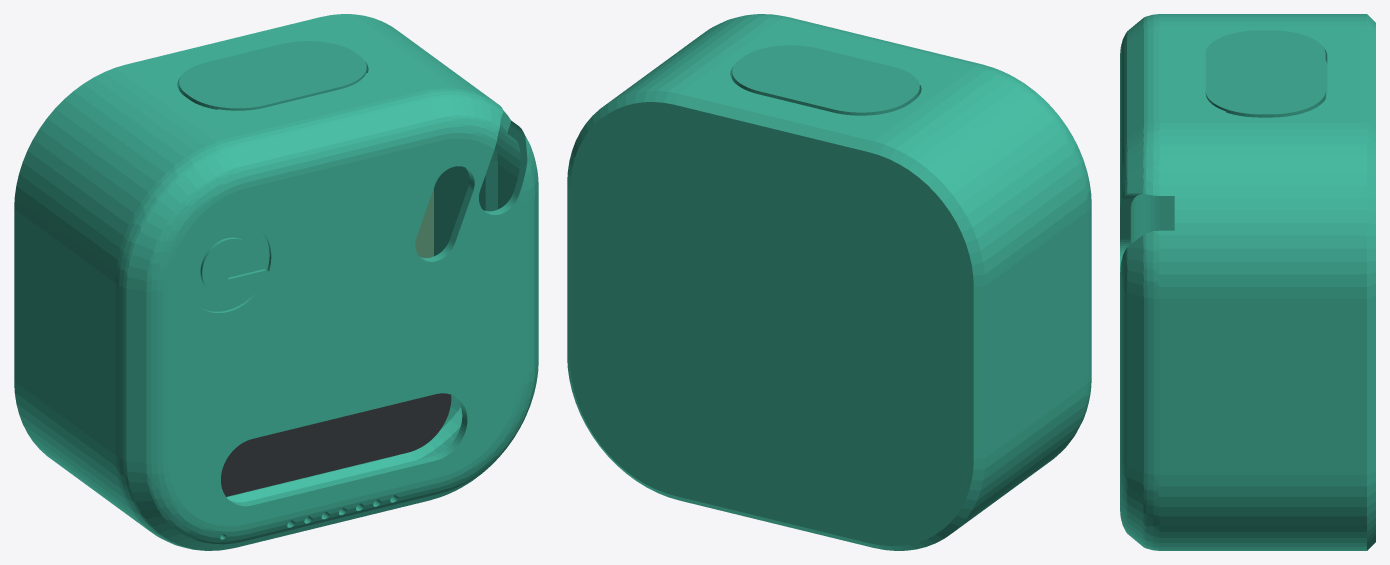
File: galatiqon.glb
3 views of the same model, side by side, from view 1: azimuth 30°, elevation 25°; view 2: azimuth 150°, elevation 25°; view 3: azimuth 270°, elevation 25° (orthographic). The views are drawn at different scales.
Visible parts, largest first — view 1: face, body, screen, button, pi; view 2: body, face, button; view 3: body, face, button.
Part boxes in pixels (x1,y1,x2,y2): face: (83, 64, 538, 550); body: (14, 14, 479, 504); screen: (221, 393, 451, 496); button: (178, 41, 366, 110); pi: (415, 188, 433, 257); body: (567, 40, 1054, 550); face: (674, 14, 1091, 481); button: (731, 45, 919, 115); body: (1226, 14, 1375, 550); face: (1120, 14, 1225, 550); button: (1205, 30, 1327, 117).
Size of the model in its own units: 0.112 by 0.1046 by 0.058.
